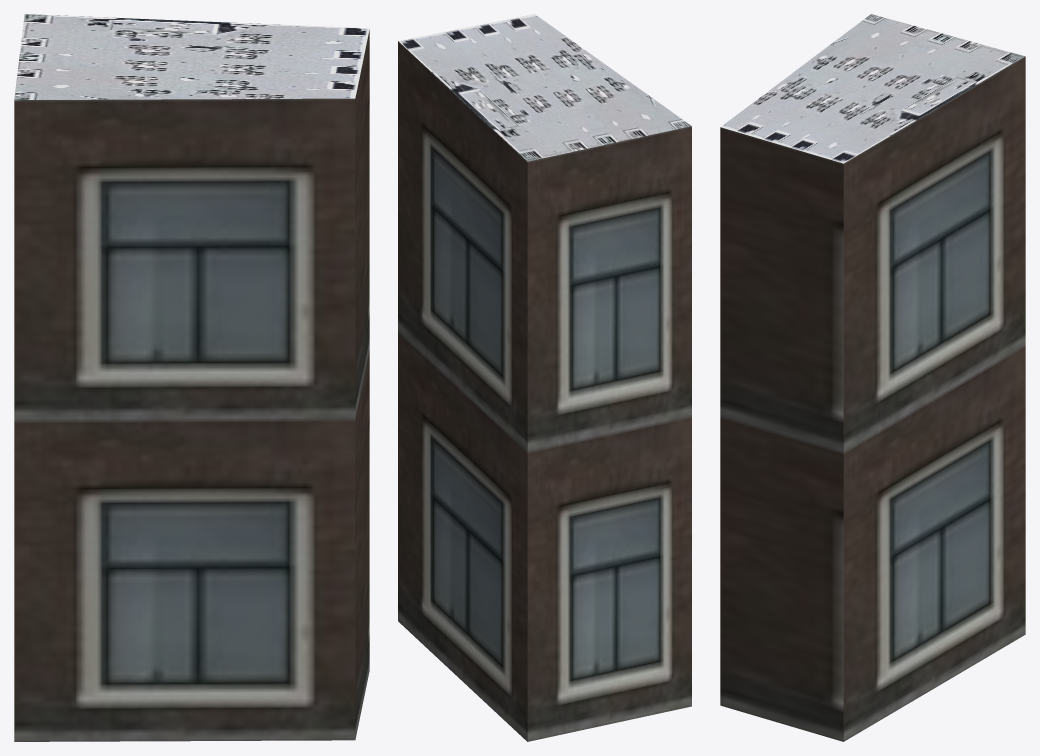
Rendered from ResTex__2317.fbx.
The picture shows the model from 3 angles, left to right: view 1: azimuth 30°, elevation 25°; view 2: azimuth 150°, elevation 25°; view 3: azimuth 270°, elevation 25°; orthographic projection. The views are drawn at different scales.
Parts seen in each view (by area): view 1: CityEngineMaterial_16_m, CityEngineMaterial_15_m; view 2: CityEngineMaterial_16_m, CityEngineMaterial_15_m; view 3: CityEngineMaterial_16_m, CityEngineMaterial_15_m.
Boxes of the visible parts, x1,y1,x2,y2 form: CityEngineMaterial_16_m: [14, 30, 369, 741]; CityEngineMaterial_15_m: [14, 14, 369, 100]; CityEngineMaterial_16_m: [398, 41, 691, 741]; CityEngineMaterial_15_m: [398, 14, 691, 161]; CityEngineMaterial_16_m: [720, 56, 1025, 741]; CityEngineMaterial_15_m: [721, 14, 1025, 163].
Bounding box in the file's own units: 3.33 × 6 × 2.87.
2 materials, 2 textured.
